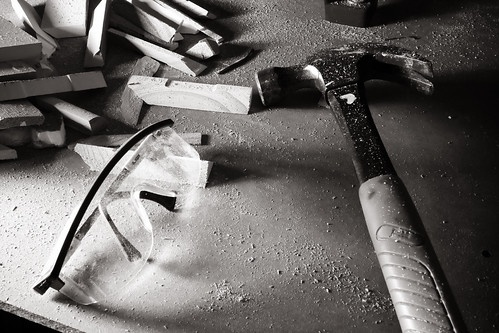hammer: (252, 39, 457, 333)
